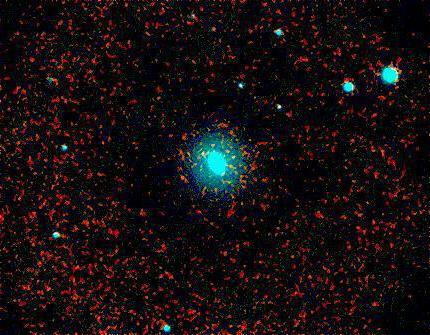star: (159, 108, 189, 138)
